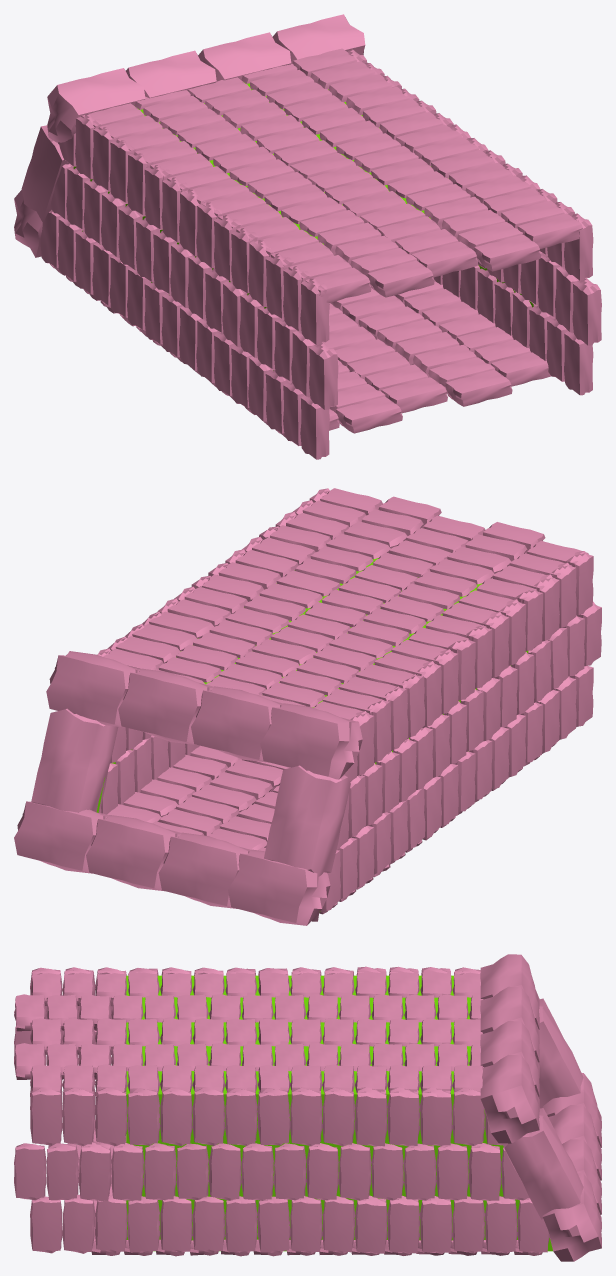
Rendered from Chimney.fbx.
3 renders of one model, top to bottom at view 1: azimuth 30°, elevation 25°; view 2: azimuth 150°, elevation 25°; view 3: azimuth 270°, elevation 25°, orthographic. The views are drawn at different scales.
Visible parts, largest first — view 1: FirePlaceWall, FirePlaceRoof; view 2: FirePlaceWall, FirePlaceRoof; view 3: FirePlaceWall, FirePlaceRoof, MainBuilding.001.
Boxes of the visible parts, x1,y1,x2,y2 form: FirePlaceWall: (40,48,601,459); FirePlaceRoof: (14,14,365,257); FirePlaceWall: (97,488,601,914); FirePlaceRoof: (14,651,362,925); FirePlaceWall: (14,966,549,1256); FirePlaceRoof: (480,954,601,1261); MainBuilding.001: (126,975,552,1251).
Size of the model in its own units: 48.09 by 83.76 by 28.11.
